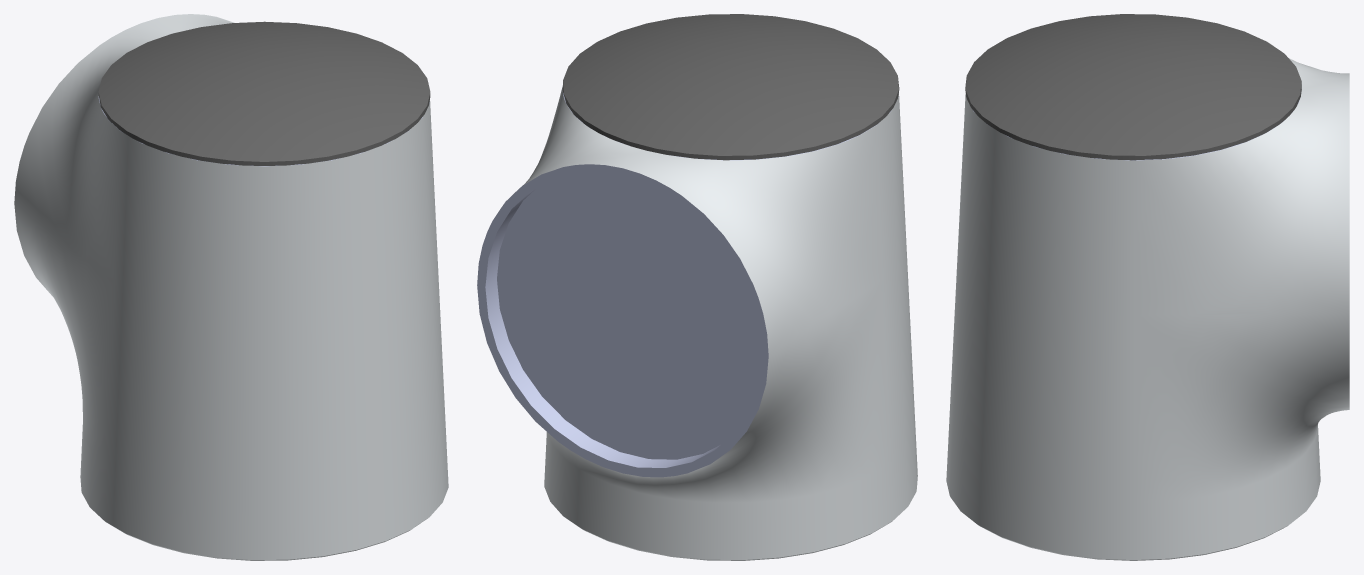
The picture shows the model from 3 angles, left to right: view 1: azimuth 30°, elevation 25°; view 2: azimuth 150°, elevation 25°; view 3: azimuth 270°, elevation 25°; orthographic projection.
Visible parts, largest first — view 1: FBXASC195FBXASC135FBXASC195FBXASC144FBXASC194FBXASC179FBXASC; view 2: FBXASC195FBXASC135FBXASC195FBXASC144FBXASC194FBXASC179FBXASC; view 3: FBXASC195FBXASC135FBXASC195FBXASC144FBXASC194FBXASC179FBXASC.
Part boxes in pixels (left/top/right/bottom): FBXASC195FBXASC135FBXASC195FBXASC144FBXASC194FBXASC179FBXASC: left=14, top=14, right=448, bottom=560; FBXASC195FBXASC135FBXASC195FBXASC144FBXASC194FBXASC179FBXASC: left=477, top=14, right=917, bottom=560; FBXASC195FBXASC135FBXASC195FBXASC144FBXASC194FBXASC179FBXASC: left=946, top=14, right=1349, bottom=560.
Size of the model in its own units: 0.0979 by 0.1054 by 0.1215.
